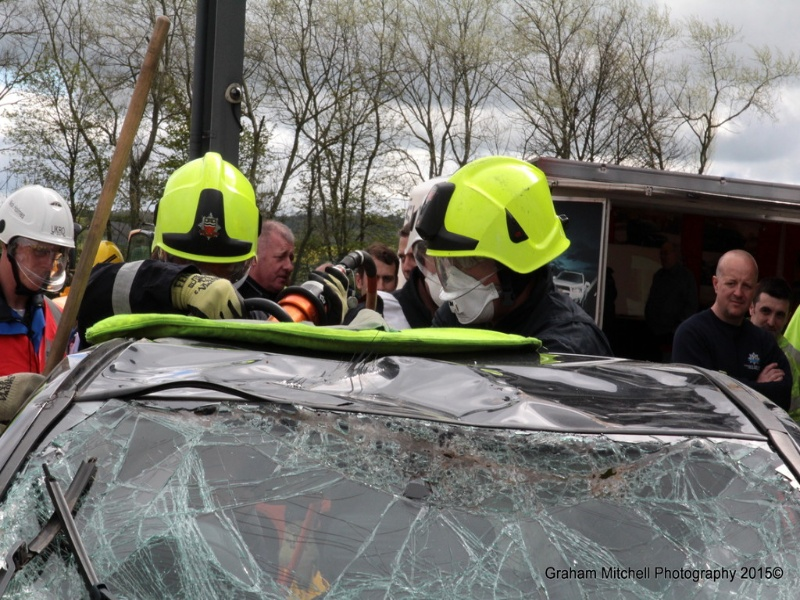helmet: (422, 154, 574, 273), (156, 152, 261, 262), (1, 185, 76, 250)
